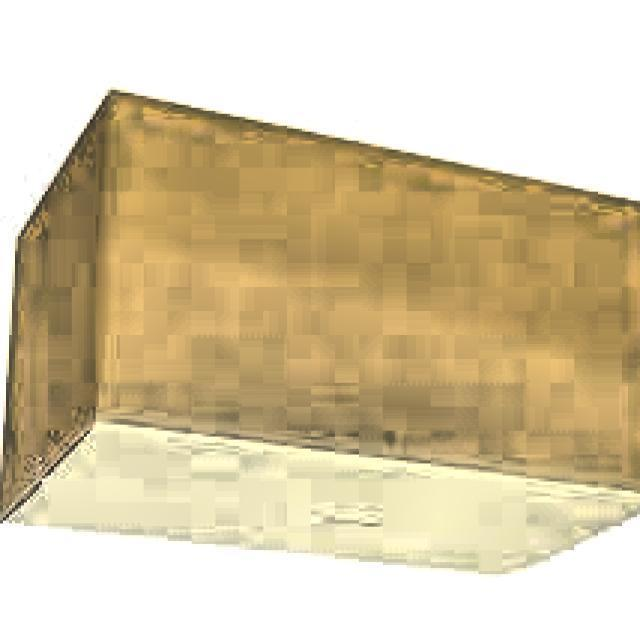cardboard: (0, 90, 640, 580)
